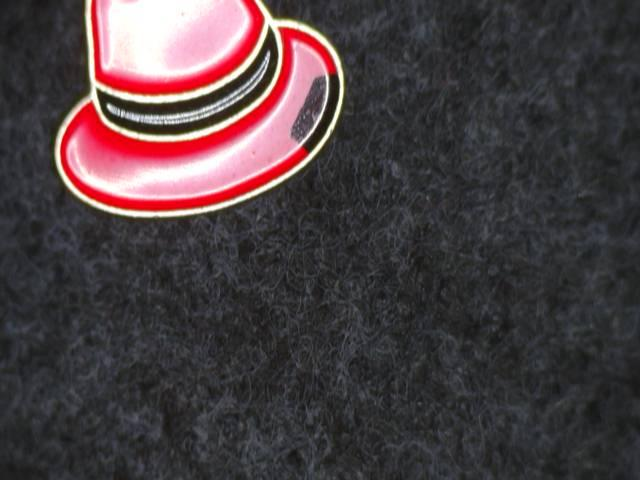Red-Hat: (40, 0, 390, 253)
Scratch: (279, 56, 354, 171)
